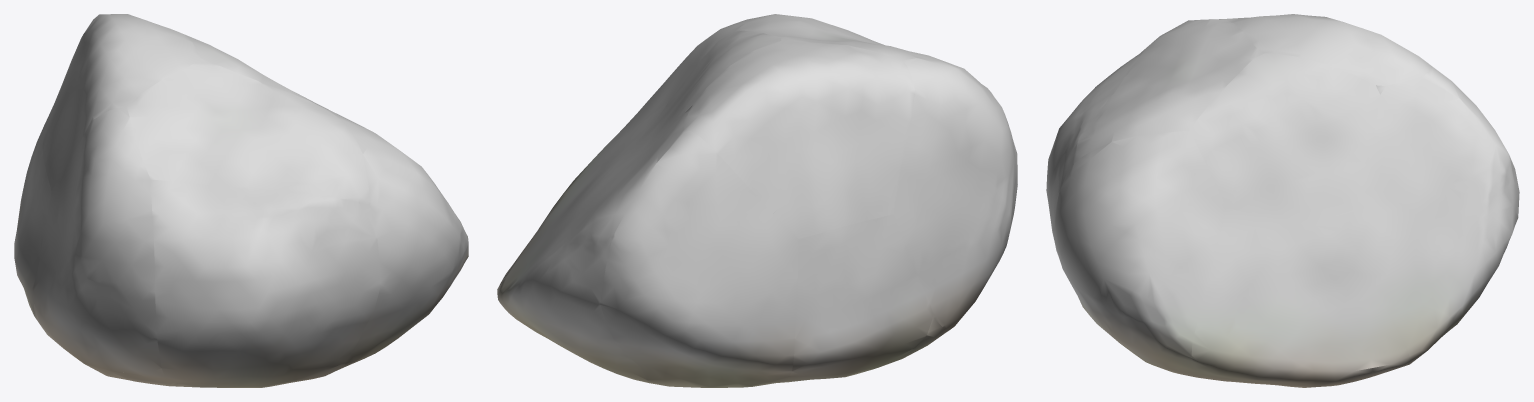
The model's file is gold_rock.glb.
The picture shows the model from 3 angles, left to right: view 1: azimuth 30°, elevation 25°; view 2: azimuth 150°, elevation 25°; view 3: azimuth 270°, elevation 25°; orthographic projection. The views are drawn at different scales.
Parts seen in each view (by area): view 1: Chunk_05, Chunk_04, Chunk_09, Chunk_06, Chunk_08, Chunk_03, Chunk_07, Chunk_14, Chunk_02, Chunk_12; view 2: Chunk_02, Chunk_08, Chunk_04, Chunk_03, Chunk_01, Chunk_07, Chunk_00, Chunk_09, Chunk_06, Chunk_14, Chunk_11; view 3: Chunk_01, Chunk_06, Chunk_00, Chunk_07, Chunk_09, Chunk_08, Chunk_05, Chunk_02.
Boxes of the visible parts, x1=… form: Chunk_05: x1=151, y1=180, x2=379, y2=386; Chunk_04: x1=33, y1=107, x2=165, y2=378; Chunk_09: x1=127, y1=63, x2=369, y2=205; Chunk_06: x1=326, y1=109, x2=468, y2=366; Chunk_08: x1=42, y1=14, x2=199, y2=190; Chunk_03: x1=14, y1=142, x2=51, y2=316; Chunk_07: x1=184, y1=34, x2=330, y2=110; Chunk_14: x1=34, y1=304, x2=177, y2=386; Chunk_02: x1=17, y1=17, x2=95, y2=225; Chunk_12: x1=177, y1=362, x2=345, y2=387; Chunk_02: x1=600, y1=129, x2=798, y2=387; Chunk_08: x1=685, y1=40, x2=914, y2=238; Chunk_04: x1=893, y1=58, x2=1017, y2=328; Chunk_03: x1=790, y1=214, x2=932, y2=376; Chunk_01: x1=497, y1=111, x2=688, y2=382; Chunk_07: x1=603, y1=30, x2=781, y2=177; Chunk_00: x1=497, y1=102, x2=667, y2=295; Chunk_09: x1=735, y1=14, x2=952, y2=64; Chunk_06: x1=593, y1=16, x2=762, y2=159; Chunk_14: x1=876, y1=317, x2=955, y2=368; Chunk_11: x1=745, y1=362, x2=884, y2=387; Chunk_01: x1=1348, y1=78, x2=1518, y2=365; Chunk_06: x1=1053, y1=130, x2=1226, y2=379; Chunk_00: x1=1191, y1=208, x2=1409, y2=387; Chunk_07: x1=1189, y1=53, x2=1380, y2=229; Chunk_09: x1=1072, y1=20, x2=1257, y2=164; Chunk_08: x1=1226, y1=14, x2=1432, y2=85; Chunk_05: x1=1046, y1=49, x2=1144, y2=254; Chunk_02: x1=1423, y1=67, x2=1519, y2=213.
Size of the model in its own units: 2.25 by 1.56 by 2.48.
